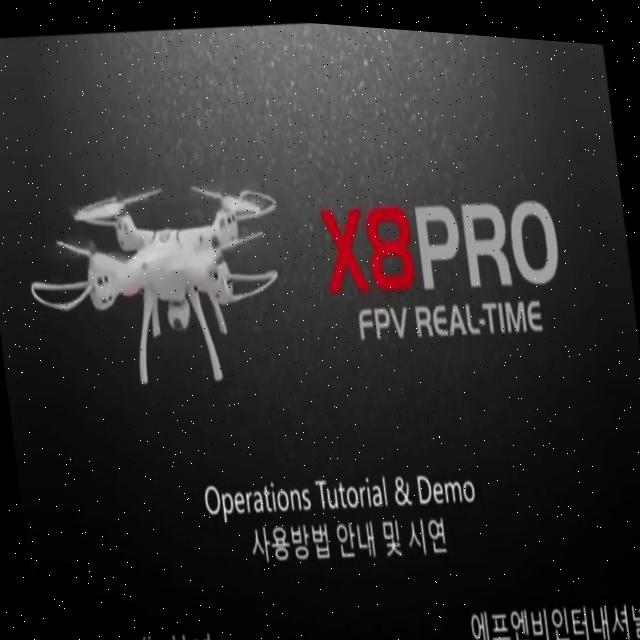drone: (19, 160, 298, 406)
